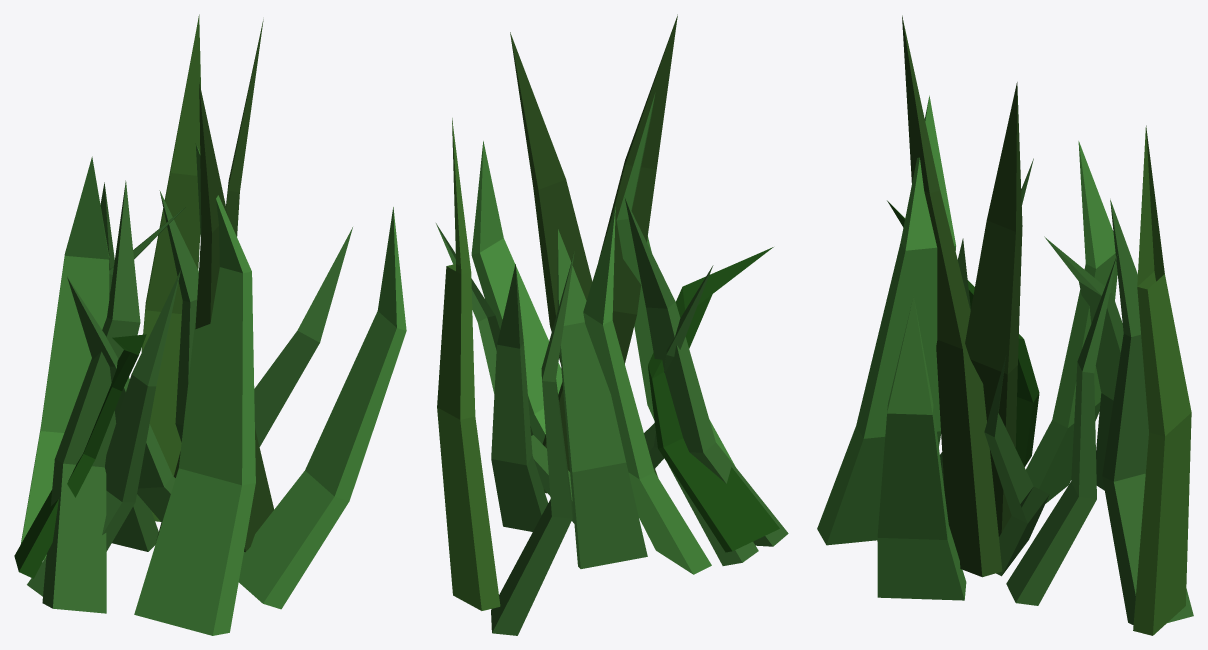
Rendered from MediumBunch.fbx.
3 views of the same model, side by side, from view 1: azimuth 30°, elevation 25°; view 2: azimuth 150°, elevation 25°; view 3: azimuth 270°, elevation 25° (orthographic). The views are drawn at different scales.
Parts seen in each view (by area): view 1: Cube.004, Cube.005, Cube.003, Cube.001, Cube; view 2: Cube.001, Cube.003, Cube, Cube.005, Cube.002, Cube.004; view 3: Cube.005, Cube.001, Cube, Cube.004, Cube.003, Cube.002.
Boxes of the visible parts, bbox=[...] form: Cube.004: bbox=[42, 143, 255, 635]; Cube.005: bbox=[155, 19, 406, 609]; Cube.003: bbox=[14, 156, 180, 596]; Cube.001: bbox=[100, 14, 200, 551]; Cube: bbox=[67, 82, 273, 552]; Cube.001: bbox=[437, 118, 574, 635]; Cube.003: bbox=[583, 205, 779, 574]; Cube: bbox=[491, 14, 713, 531]; Cube.005: bbox=[436, 32, 658, 523]; Cube.002: bbox=[557, 229, 647, 568]; Cube.004: bbox=[616, 93, 788, 546]; Cube.005: bbox=[877, 82, 1049, 600]; Cube.001: bbox=[1102, 125, 1193, 635]; Cube: bbox=[902, 15, 1117, 605]; Cube.004: bbox=[817, 95, 1033, 545]; Cube.003: bbox=[887, 141, 1117, 503]; Cube.002: bbox=[1044, 236, 1123, 490].
Size of the model in its own units: 182 by 282 by 167.
